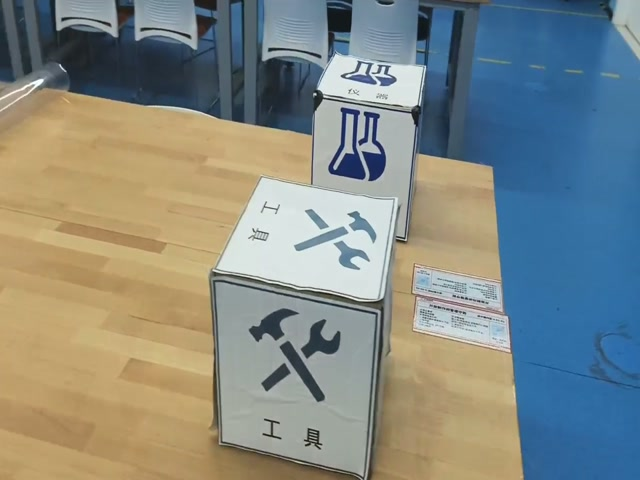Cube_ins: (314, 53, 425, 117)
Cube_tool: (210, 177, 397, 310)
